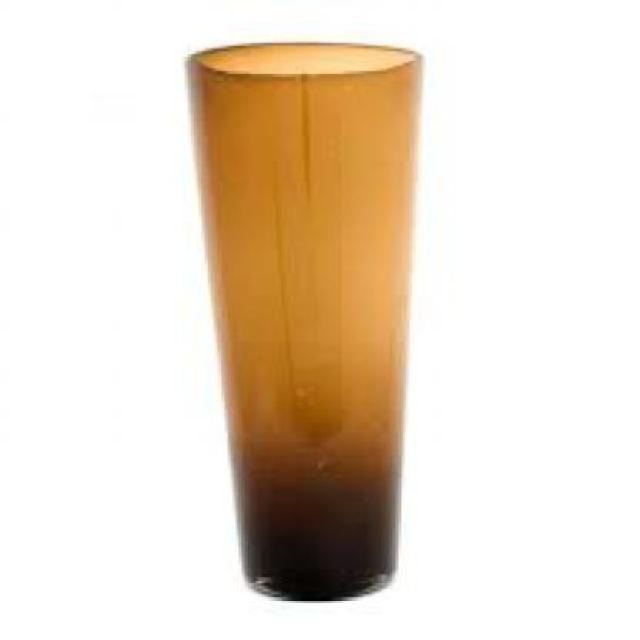kaca: (182, 40, 422, 594)
